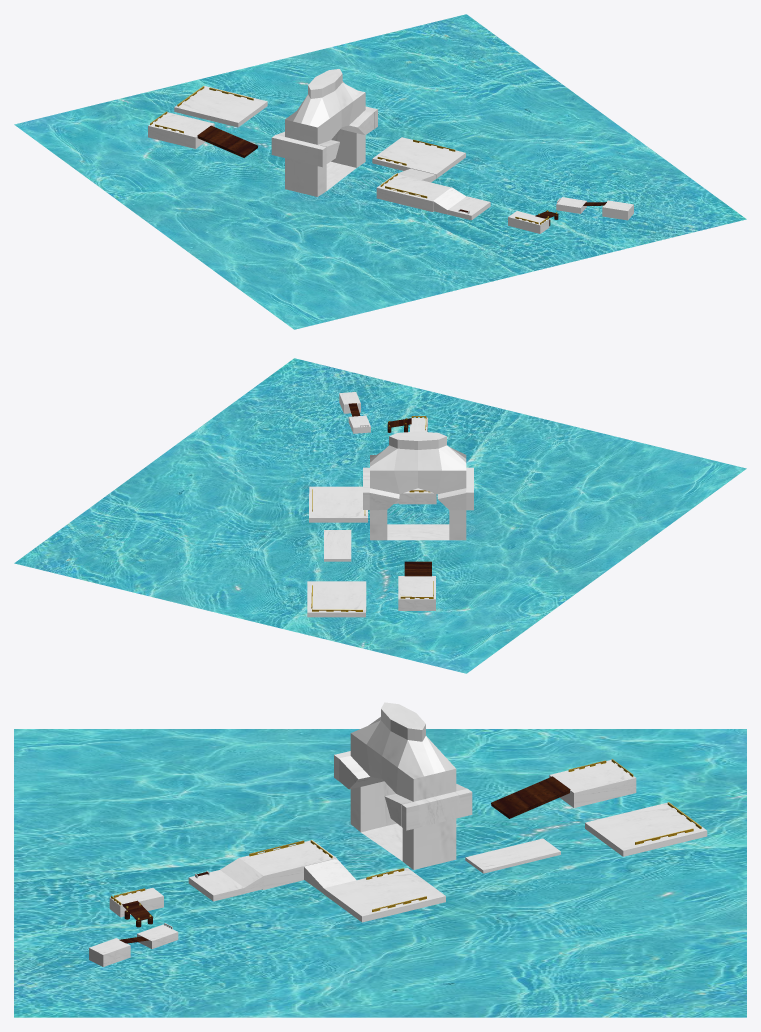
File: Blocking Prototipo Neon White.fbx
3 renders of one model, top to bottom at view 1: azimuth 30°, elevation 25°; view 2: azimuth 150°, elevation 25°; view 3: azimuth 270°, elevation 25°, orthographic. The views are drawn at different scales.
Parts seen in each view (by area): view 1: Plane, Cube.016, Cube.011, Cube.010, Cube.008, Cube.013, Cube.014, Cube.006, Cube.005; view 2: Plane, Cube.016, Cube.011, Cube.010, Cube.013, Cube.012; view 3: Plane, Cube.016, Cube.010, Cube.011, Cube.013, Cube.008, Cube.012, Cube.014, Cube.006, Cube.009, Cube, Cube.005 (+2 smaller).
Part boxes in pixels (x1,y1,x2,y2): Plane: [14, 14, 746, 329]; Cube.016: [271, 69, 377, 196]; Cube.011: [174, 86, 267, 127]; Cube.010: [372, 137, 465, 178]; Cube.008: [376, 174, 450, 211]; Cube.013: [148, 112, 214, 148]; Cube.014: [197, 125, 257, 157]; Cube.006: [448, 196, 490, 220]; Cube.005: [508, 211, 549, 233]; Plane: [14, 358, 746, 673]; Cube.016: [363, 431, 473, 540]; Cube.011: [307, 581, 366, 617]; Cube.010: [309, 486, 367, 522]; Cube.013: [398, 576, 435, 610]; Cube.012: [324, 530, 351, 561]; Plane: [14, 729, 746, 1017]; Cube.016: [334, 702, 472, 869]; Cube.010: [323, 868, 445, 922]; Cube.011: [585, 802, 707, 856]; Cube.013: [549, 760, 636, 807]; Cube.008: [239, 840, 336, 889]; Cube.012: [465, 838, 560, 873]; Cube.014: [491, 776, 570, 818]; Cube.006: [188, 870, 244, 901]; Cube.009: [304, 858, 356, 893]; Cube: [89, 938, 130, 966]; Cube.005: [109, 888, 163, 917].
Size of the model in its own units: 62005 by 12875 by 66531.
